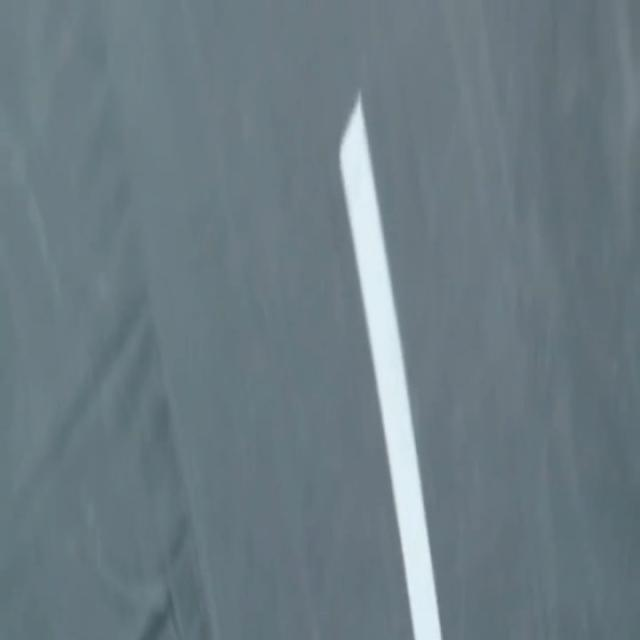center: (340, 93, 441, 639)
